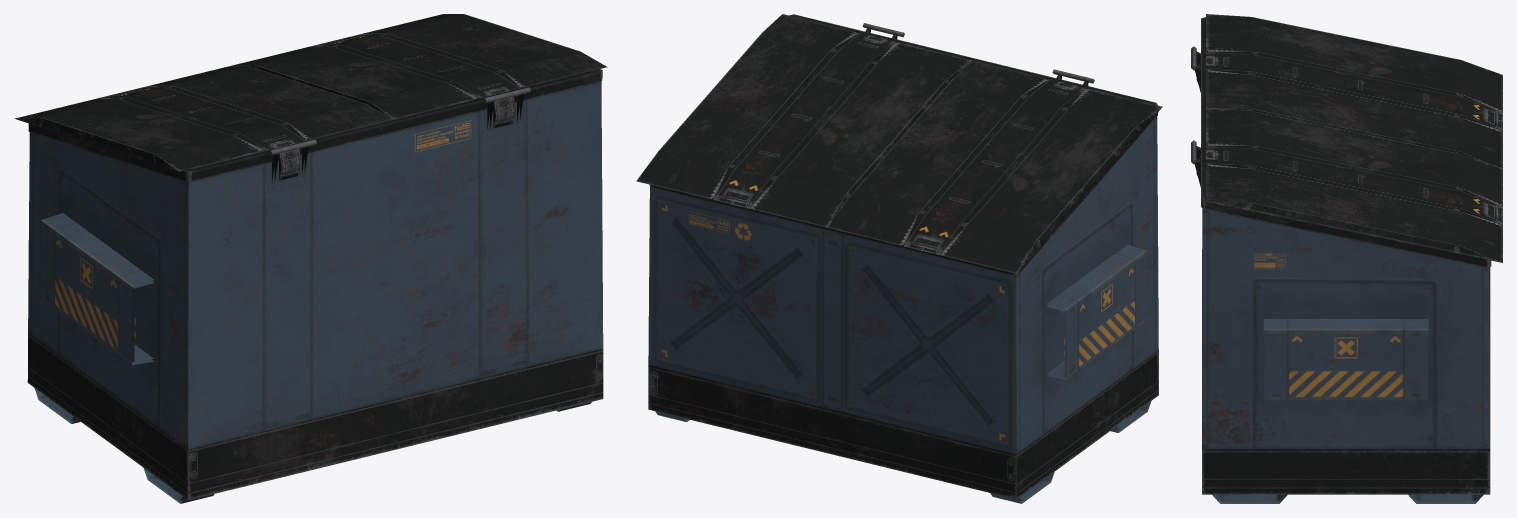
The model's file is TRF0710027.fbx.
3 renders of one model, left to right at view 1: azimuth 30°, elevation 25°; view 2: azimuth 150°, elevation 25°; view 3: azimuth 270°, elevation 25°, orthographic. The views are drawn at different scales.
Visible parts, largest first — view 1: smTRF0710027; view 2: smTRF0710027; view 3: smTRF0710027.
Boxes of the visible parts, left/top/right/bottom form: smTRF0710027: left=14, top=14, right=607, bottom=503; smTRF0710027: left=636, top=14, right=1162, bottom=503; smTRF0710027: left=1191, top=14, right=1502, bottom=503.
Bounding box in the file's own units: 402 × 290 × 263.
1 material, 1 textured.
